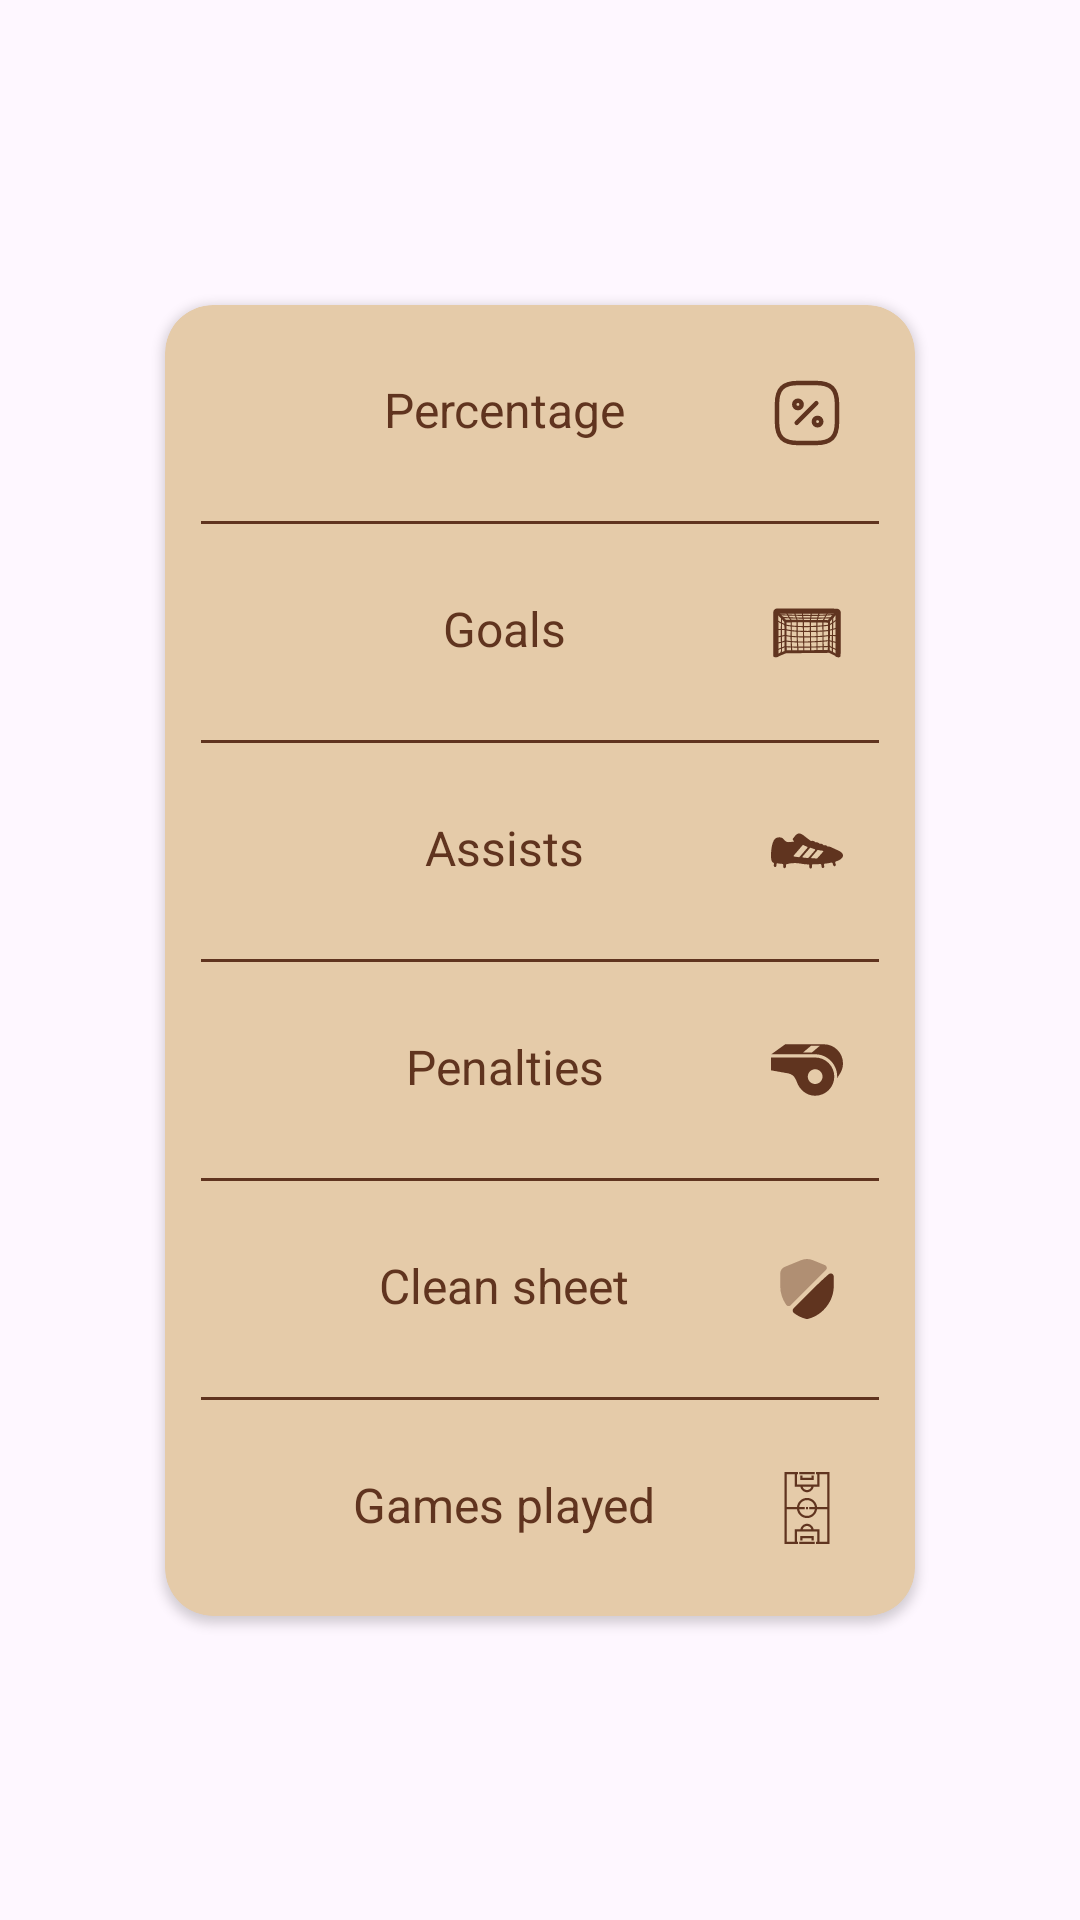

Icons on this 1080w x 1920h Android screen, each with the point to tap as (x,y):
football field: (807,1508)
football goal: (807,633)
football shoe: (807,851)
penalty: (807,1070)
